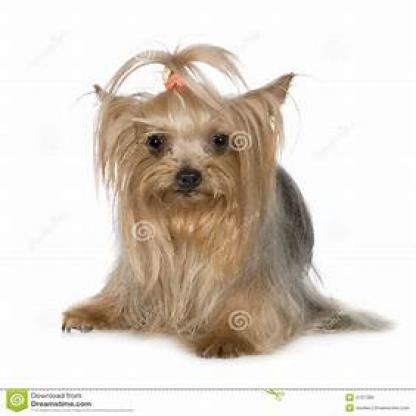dog: (62, 44, 397, 358)
